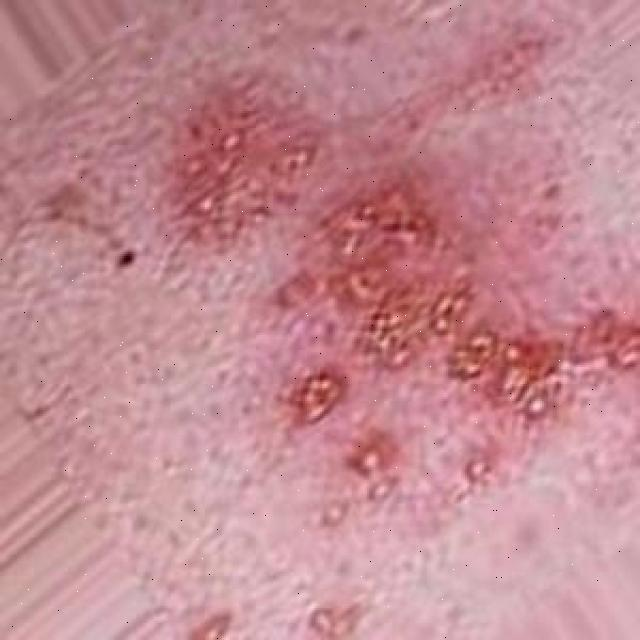Shingles: (284, 186, 640, 423), (175, 92, 312, 244)
